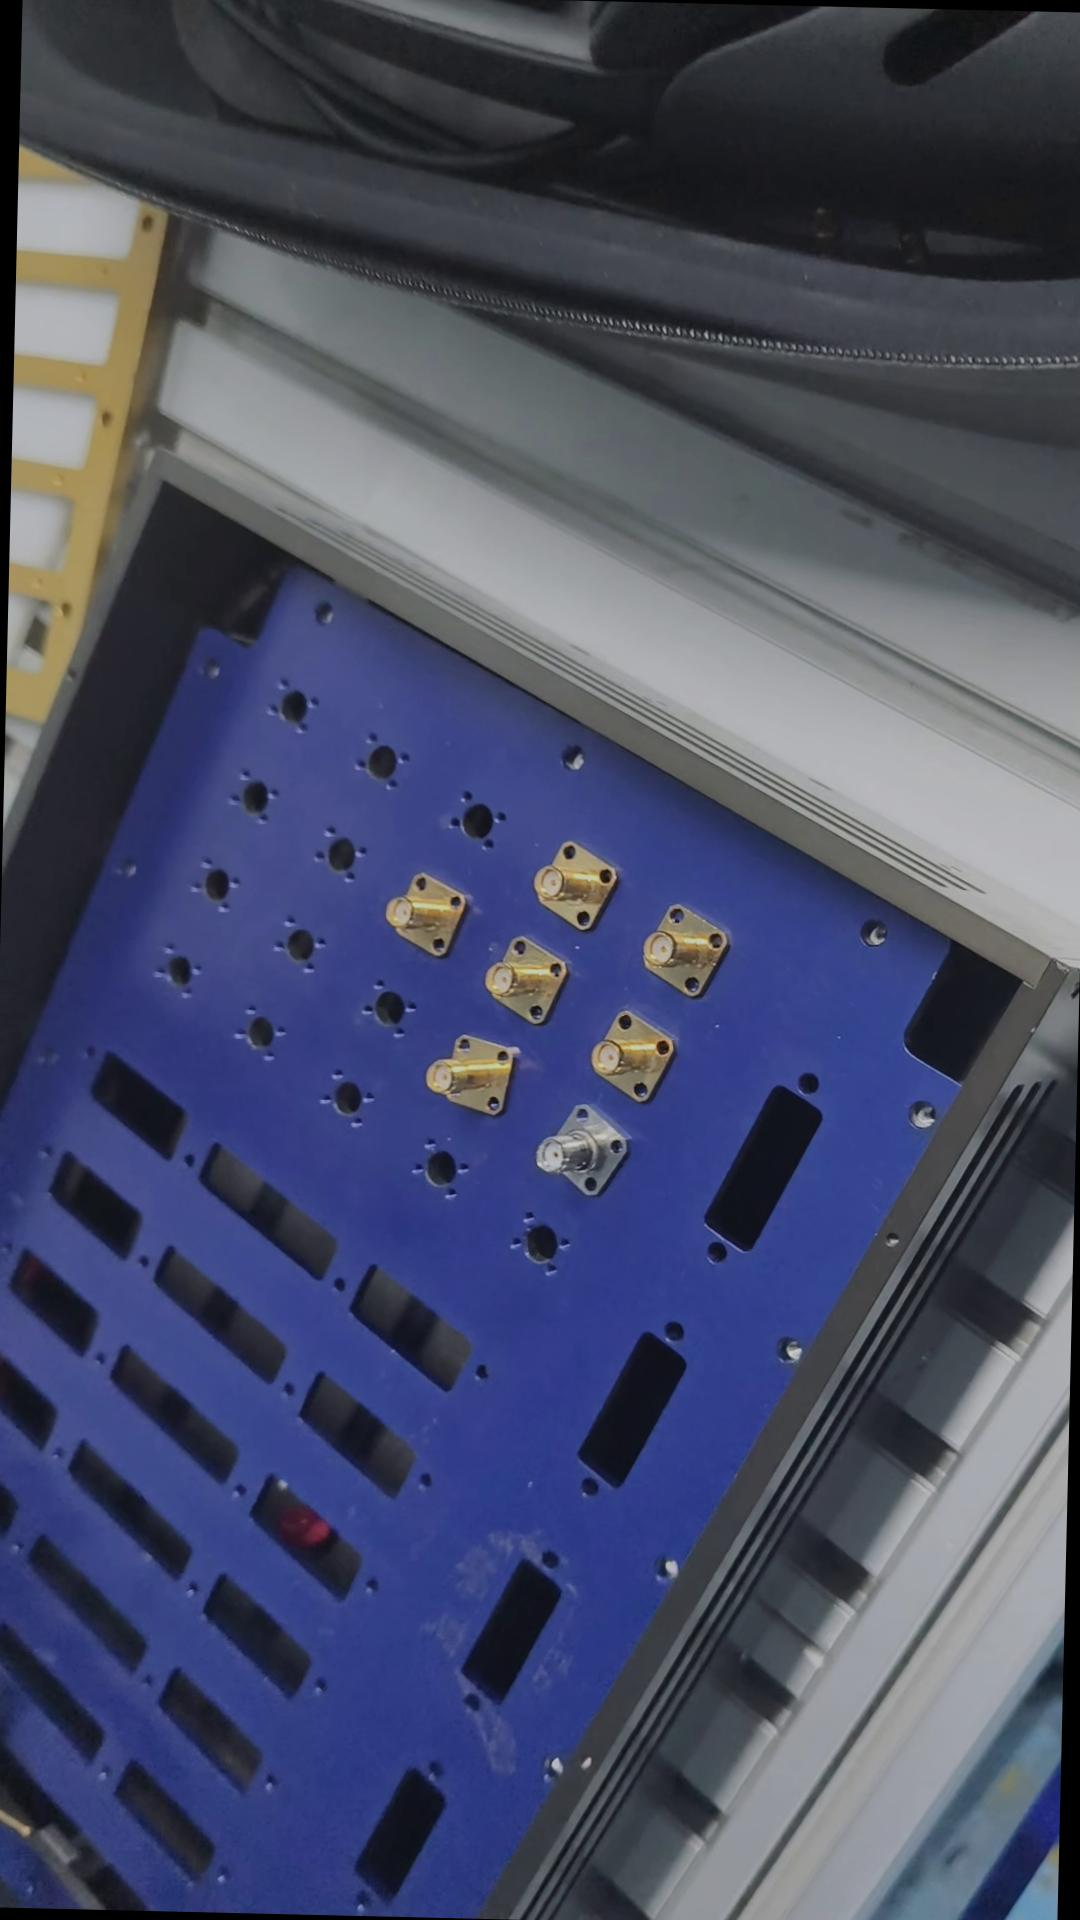SMA: (531, 1095, 636, 1200), (638, 894, 738, 998), (578, 1002, 679, 1102), (475, 934, 571, 1029), (380, 870, 469, 963), (525, 837, 615, 927), (429, 1035, 517, 1116)
